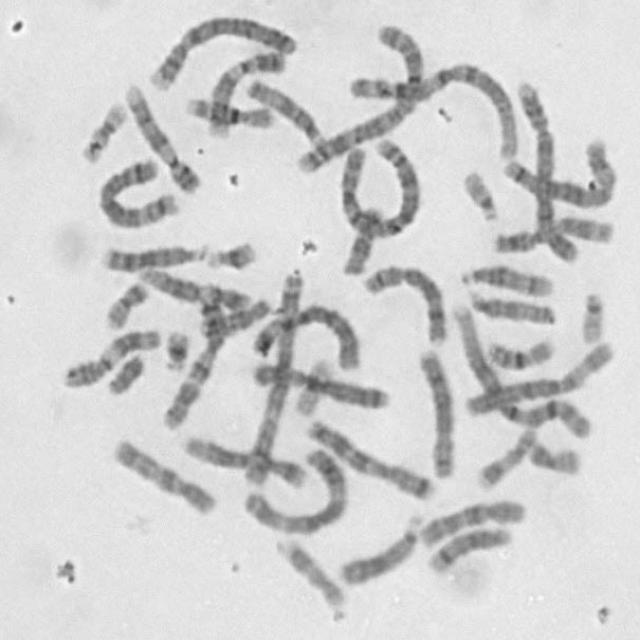A1: (449, 298, 596, 444), (342, 57, 524, 162)
A2: (292, 17, 428, 176), (334, 131, 424, 240)
A3: (239, 265, 308, 490), (238, 440, 353, 535)
B4: (513, 76, 582, 265), (145, 7, 298, 91)
B5: (499, 132, 621, 210), (93, 151, 180, 229)
C10: (107, 431, 219, 518), (416, 493, 527, 550)
C11: (57, 322, 164, 391), (489, 210, 619, 255)
C12: (175, 430, 308, 490), (134, 261, 254, 314)
C6: (459, 334, 619, 420), (245, 299, 363, 373)
C7: (301, 412, 439, 503), (158, 292, 226, 430)
C8: (358, 256, 452, 347), (414, 342, 459, 481)
C9: (119, 77, 203, 196), (199, 43, 289, 139)
D13: (333, 508, 425, 588), (96, 238, 210, 273)
D14: (423, 520, 516, 576), (456, 259, 555, 299)
D15: (240, 72, 328, 150), (464, 284, 558, 326)
E16: (181, 91, 277, 131), (478, 330, 557, 372)
E17: (272, 532, 348, 610), (472, 421, 542, 491)
E18: (337, 198, 388, 276), (198, 292, 275, 340)
F19: (75, 96, 129, 165), (290, 351, 336, 418)
F20: (98, 274, 152, 331), (521, 434, 583, 476)
G21: (201, 235, 259, 272), (160, 322, 192, 373)
G22: (458, 164, 501, 224), (576, 286, 608, 346)
X: (246, 358, 392, 412)
Y: (100, 347, 146, 396)
